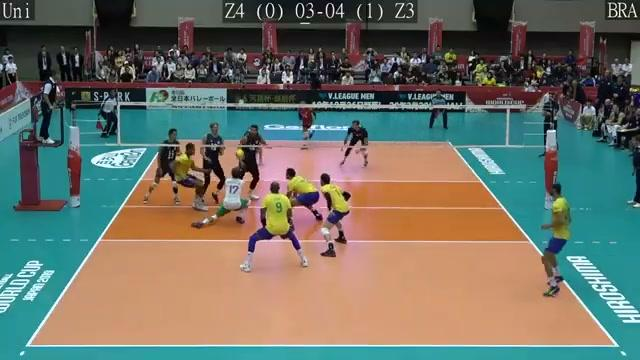ball: (234, 147, 244, 161)
